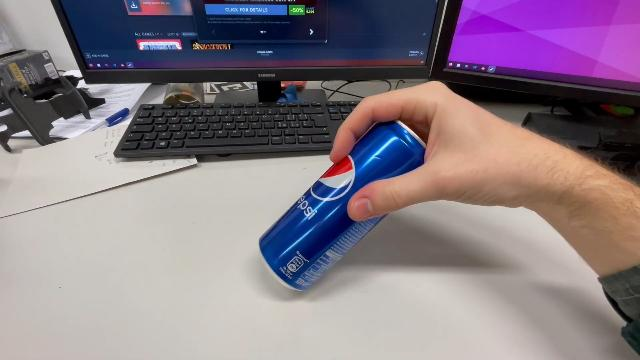Pepsi: (255, 112, 431, 294)
